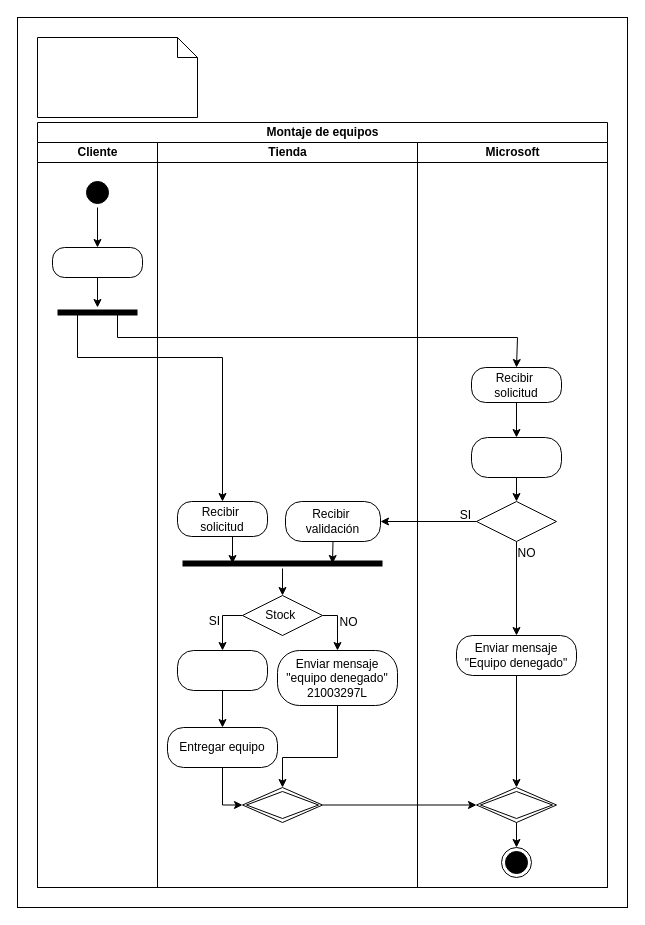
The diagram is 645 pixels wide and 925 high, and some of its shapes have lost their labels. The shapes that lost their labels are listed below. From the top down, each one's centre as x and y in pixels, then its label:
the point at 117,77: Montaje de equipos Pablo Giner Barrios 21003297L 09/03/2023
the point at 97,262: Solicitar equipo
the point at 516,457: Consultar viabilidad
the point at 516,521: Compatible
the point at 222,670: Montar equipo
